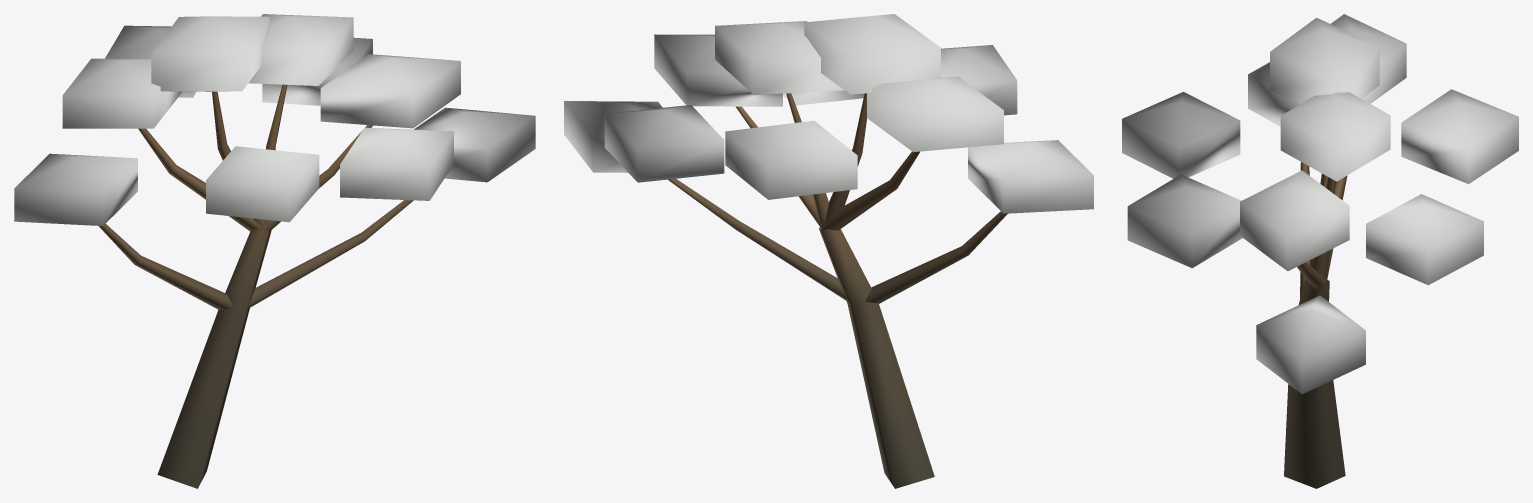
3 views of the same model, side by side, from view 1: azimuth 30°, elevation 25°; view 2: azimuth 150°, elevation 25°; view 3: azimuth 270°, elevation 25° (orthographic). The views are drawn at different scales.
Parts seen in each view (by area): view 1: crown, trunk; view 2: crown, trunk; view 3: crown, trunk.
Boxes of the visible parts, x1,y1,x2,y2 form: crown: [14, 14, 535, 225]; trunk: [99, 84, 413, 488]; crown: [564, 14, 1093, 213]; trunk: [668, 93, 1007, 488]; crown: [1122, 14, 1518, 394]; trunk: [1284, 162, 1347, 488].
Bounding box in the file's own units: 11.42 × 9.43 × 7.33.
